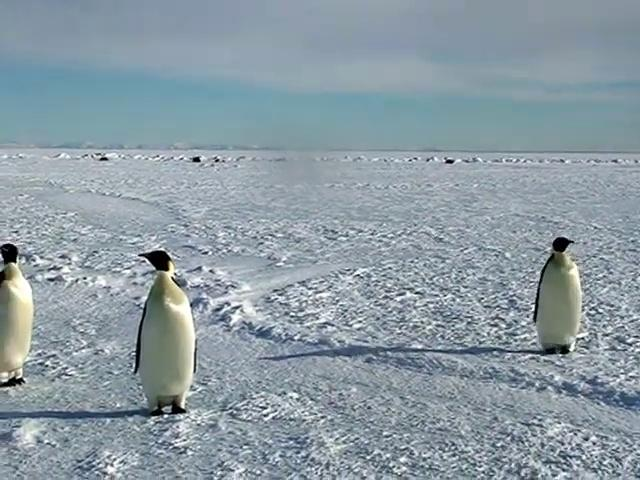animal: (135, 251, 197, 415)
